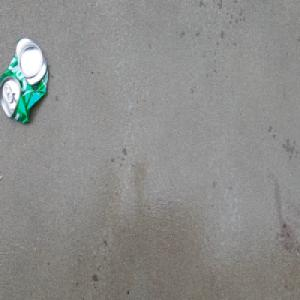SodaCan: (0, 36, 49, 126)
